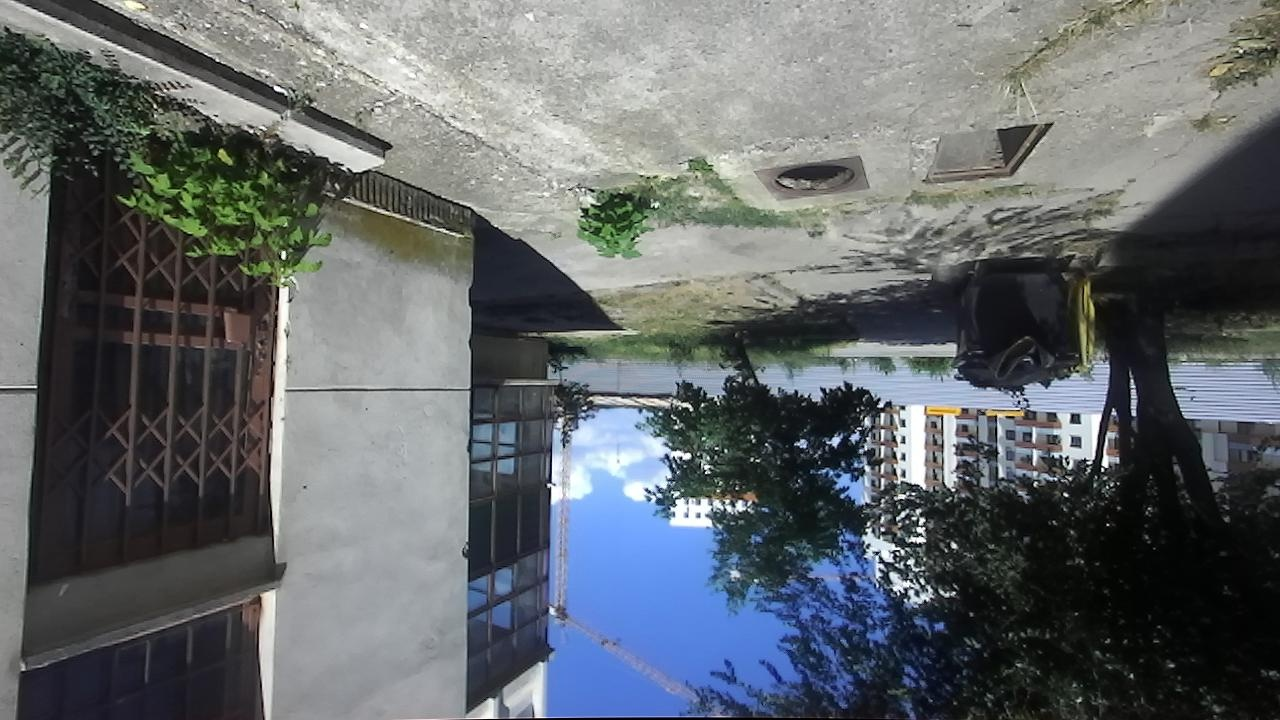drain: (919, 119, 1056, 187), (765, 160, 860, 194)
